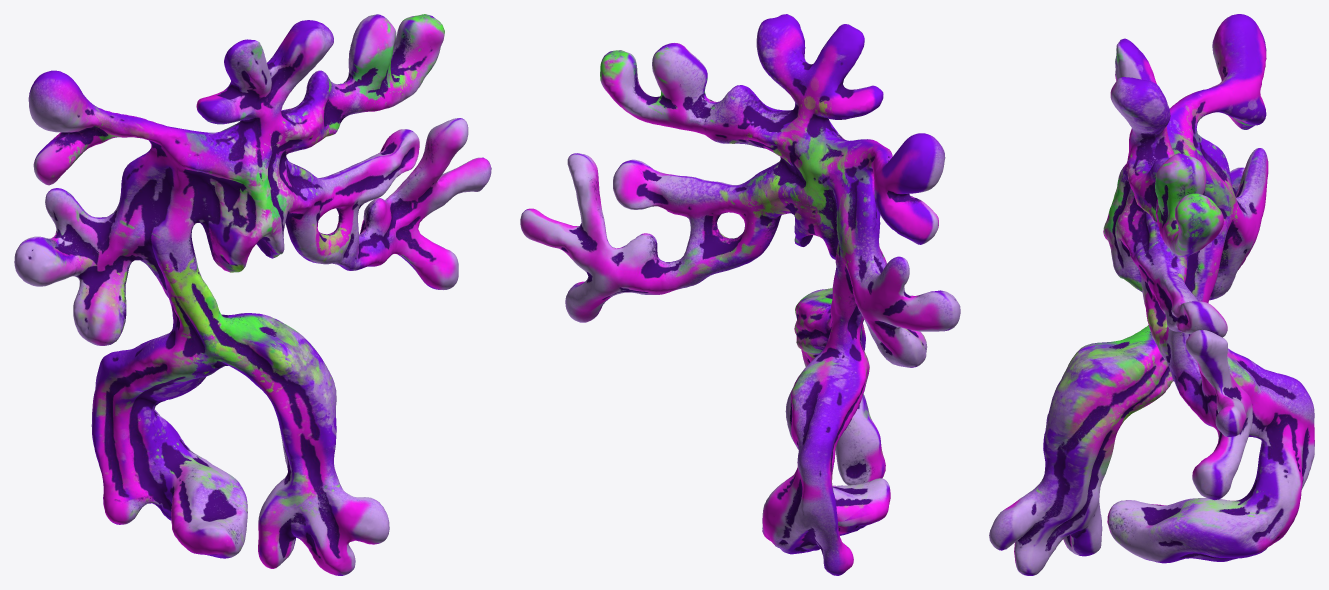
The model's file is shr-waterfall-tree-1.glb.
The picture shows the model from 3 angles, left to right: view 1: azimuth 30°, elevation 25°; view 2: azimuth 150°, elevation 25°; view 3: azimuth 270°, elevation 25°; orthographic projection. The views are drawn at different scales.
Visible parts, largest first — view 1: geometry_0; view 2: geometry_0; view 3: geometry_0.
Boxes of the visible parts, x1,y1,x2,y2 form: geometry_0: (14, 14, 491, 575); geometry_0: (520, 14, 960, 575); geometry_0: (989, 14, 1314, 575).
Bounding box in the file's own units: 0.9376 × 1 × 0.5639.
1 material, 1 textured.
